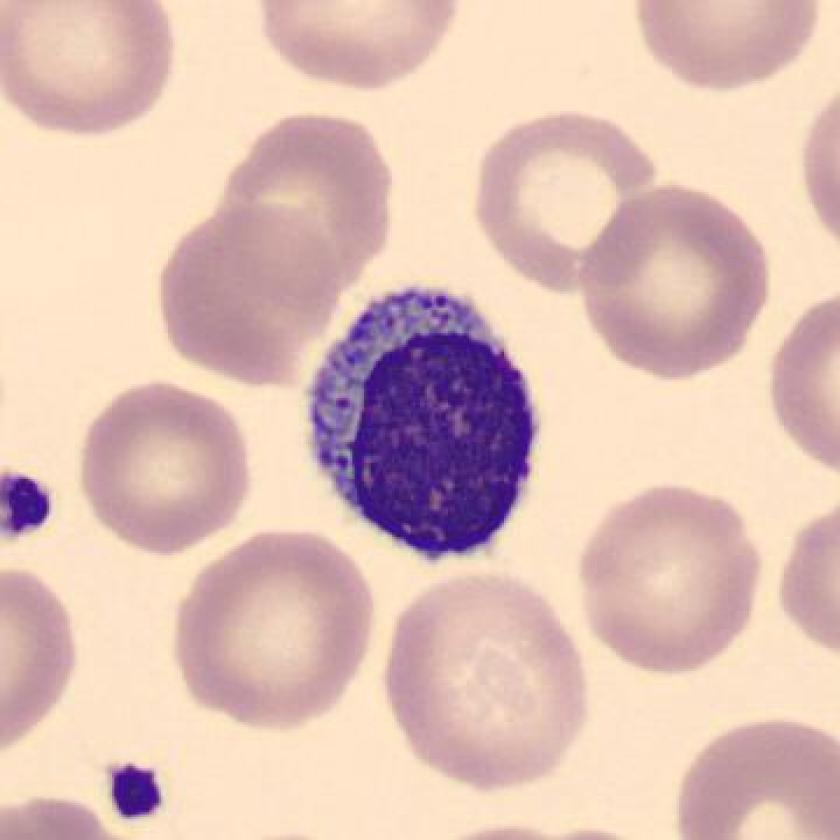lymphocyte: (288, 272, 552, 573)
